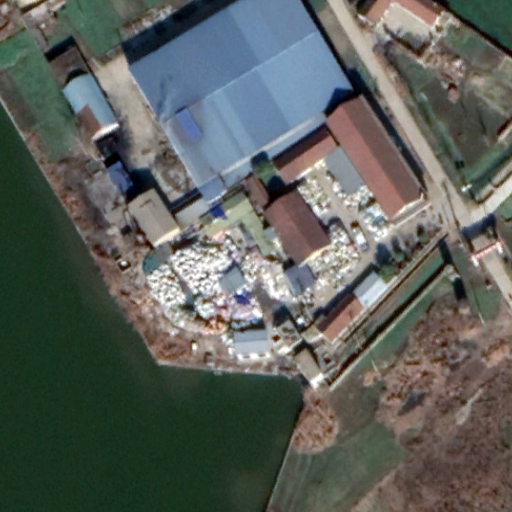msw: (143, 229, 292, 327), (299, 173, 394, 281)
